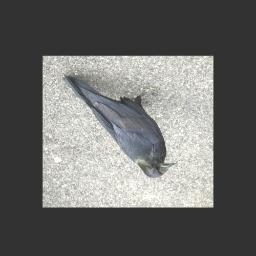Crow: (62, 73, 178, 178)
